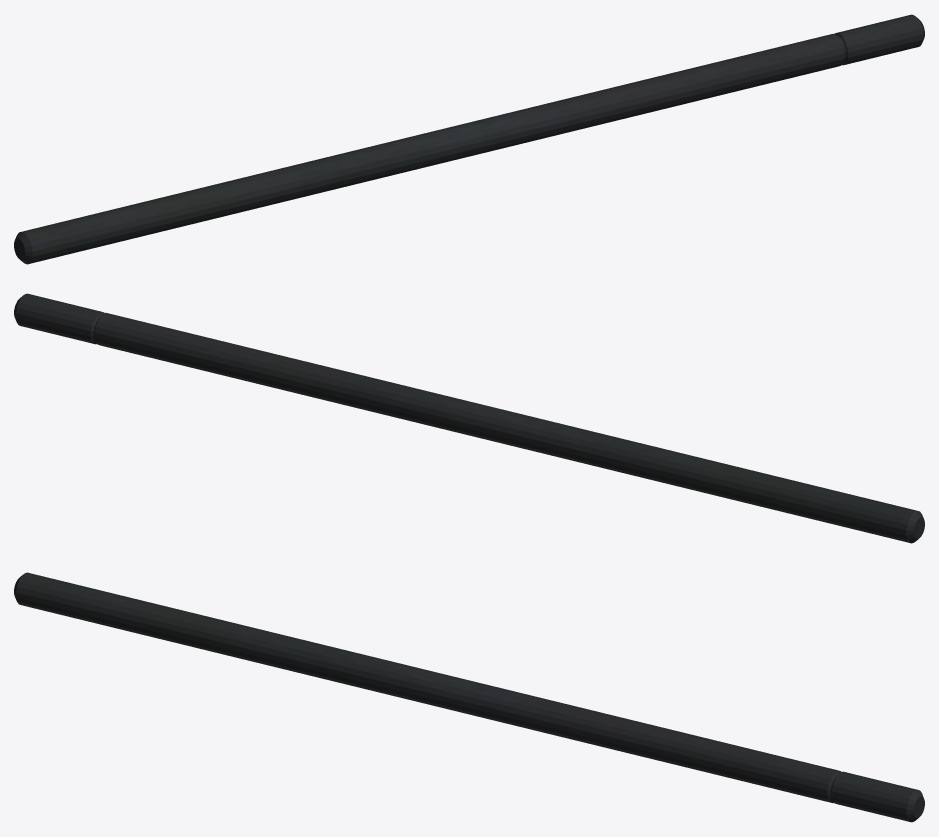
File: Cover_Pin.dae
3 renders of one model, top to bottom at view 1: azimuth 30°, elevation 25°; view 2: azimuth 150°, elevation 25°; view 3: azimuth 330°, elevation 25°, orthographic.
Parts seen in each view (by area): view 1: Cover_Pin; view 2: Cover_Pin; view 3: Cover_Pin.
Boxes of the visible parts, <box> form: Cover_Pin: <box>14,14,924,264</box>; Cover_Pin: <box>14,293,924,543</box>; Cover_Pin: <box>14,572,924,822</box>.
Size of the model in its own units: 0.0959 by 0.00305 by 0.0031.
1 material, 1 textured.
